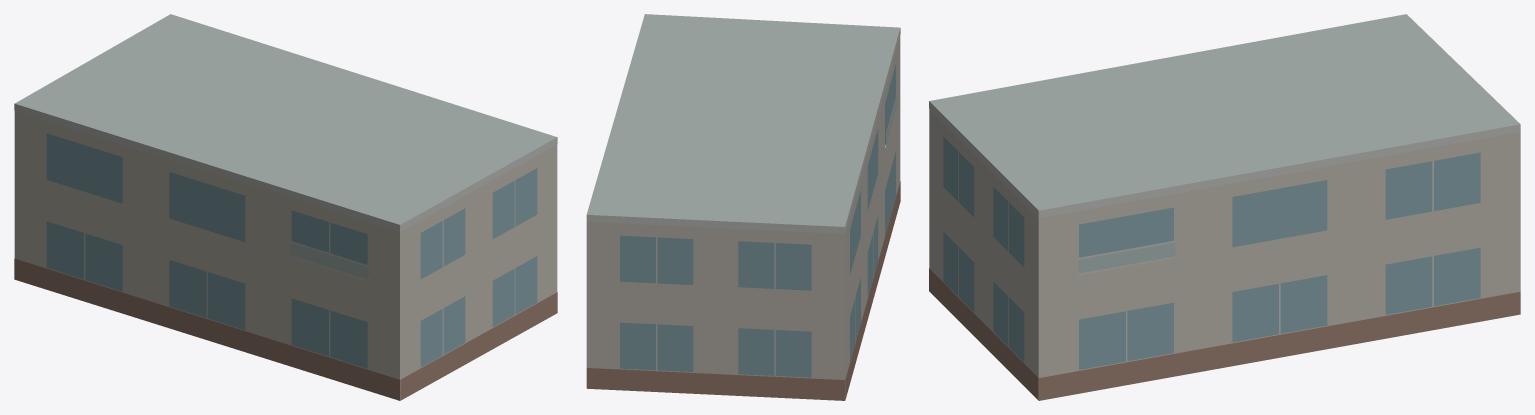
File: survey-upis-33015919.glb
The picture shows the model from 3 angles, left to right: view 1: azimuth 30°, elevation 25°; view 2: azimuth 150°, elevation 25°; view 3: azimuth 270°, elevation 25°; orthographic projection. The views are drawn at different scales.
Parts seen in each view (by area): view 1: survey-upis-33015919.tmp; view 2: survey-upis-33015919.tmp; view 3: survey-upis-33015919.tmp.
Part boxes in pixels (x1=…): survey-upis-33015919.tmp: x1=14, y1=14, x2=557, y2=400; survey-upis-33015919.tmp: x1=586, y1=14, x2=900, y2=400; survey-upis-33015919.tmp: x1=929, y1=14, x2=1520, y2=400.
Bounding box in the file's own units: 13.54 × 6.1 × 17.2.
